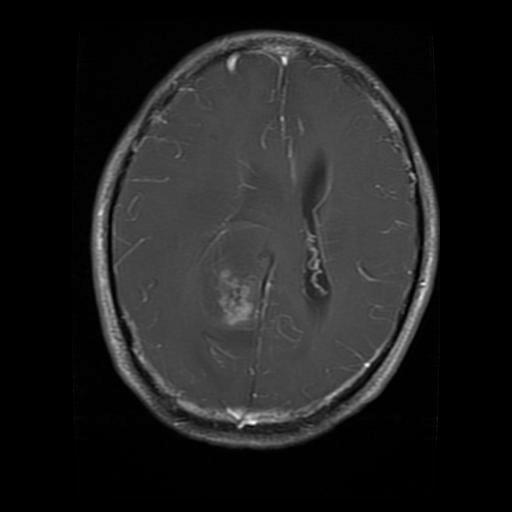Tumour-Glioma: (202, 258, 266, 333)
